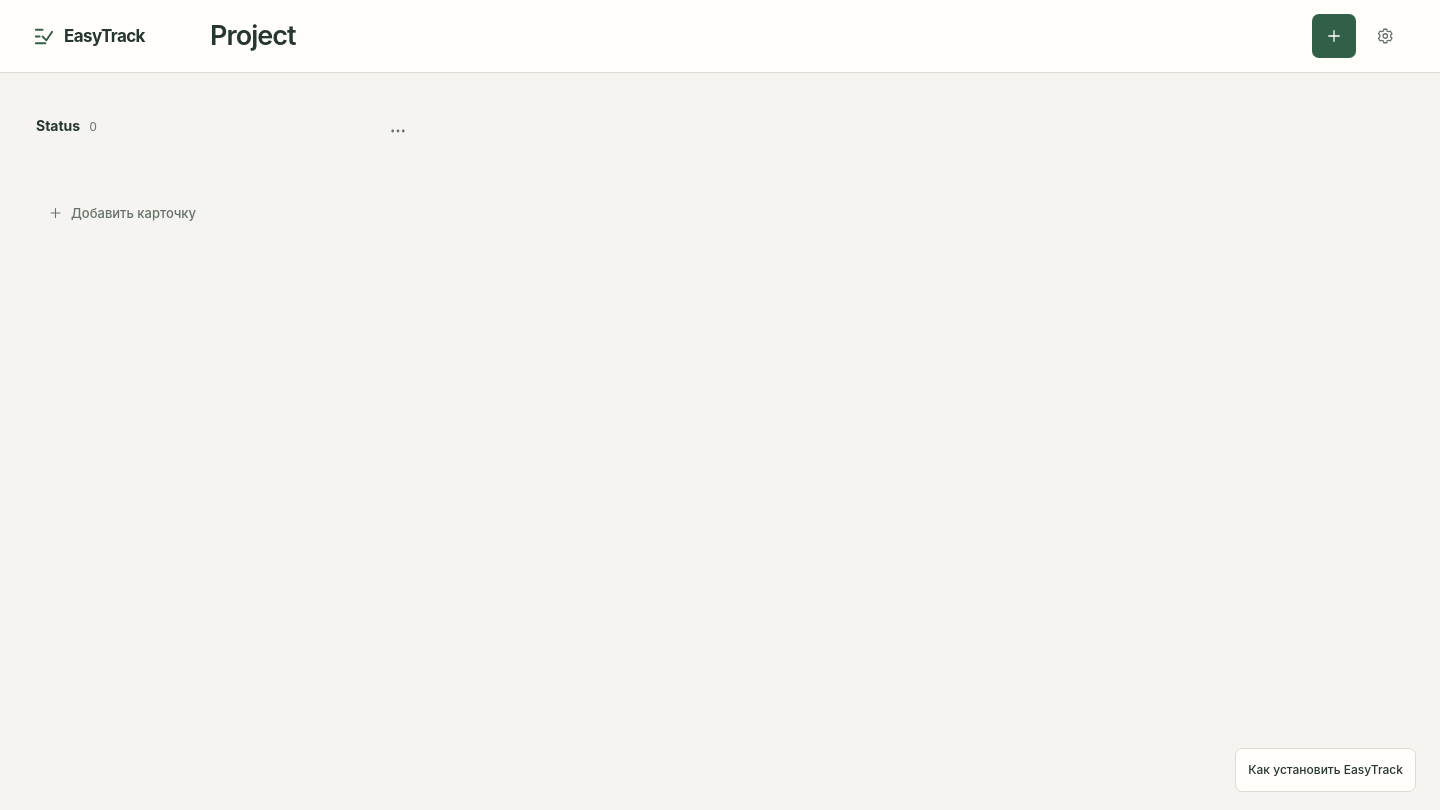
Scenario: translates deletion menus and dialogs and never offers project deletion
expect the heading "Project" is shown: met, box [210,19,296,52]
Click the button named "Настройки": (1386,36) [1364,14,1408,58]
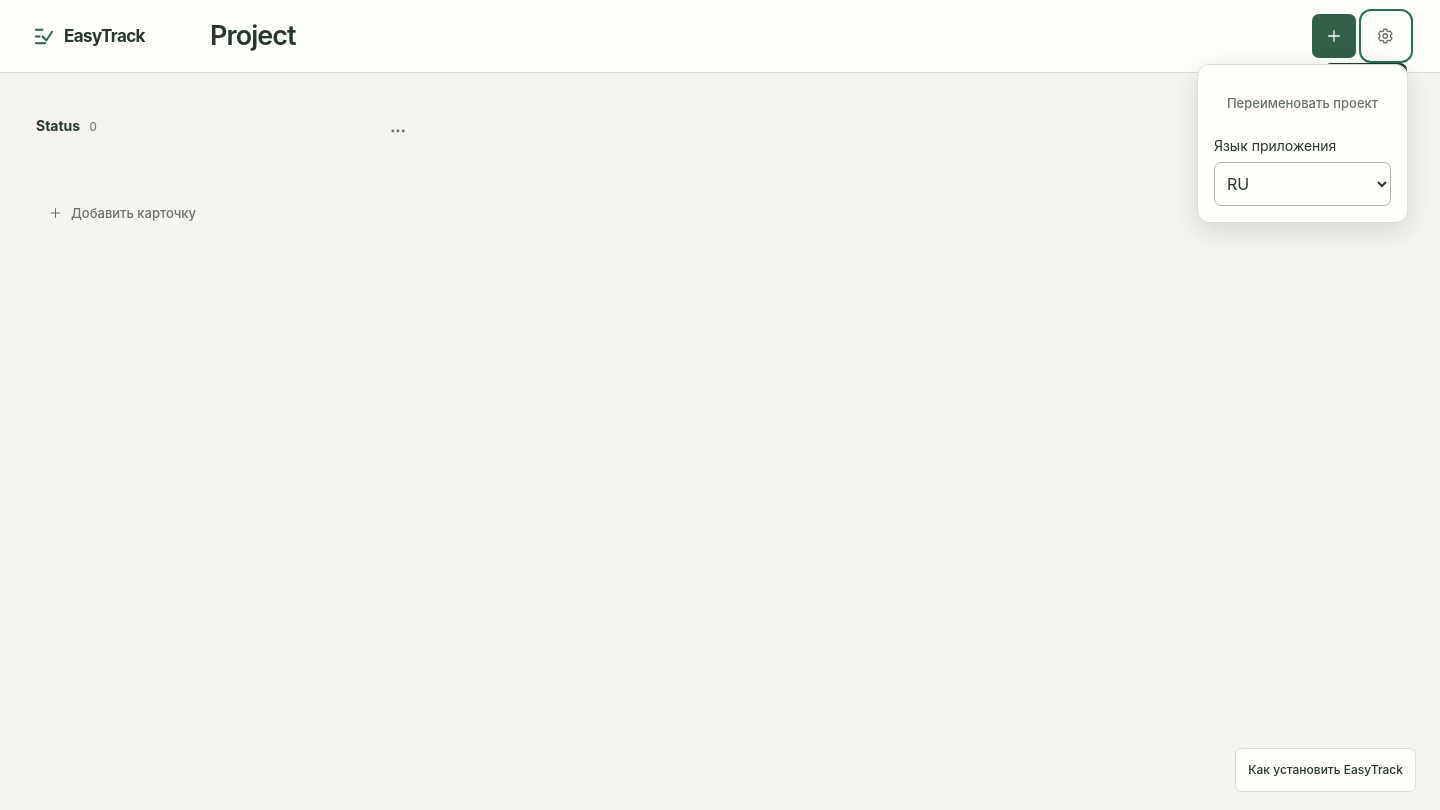
Press Escape
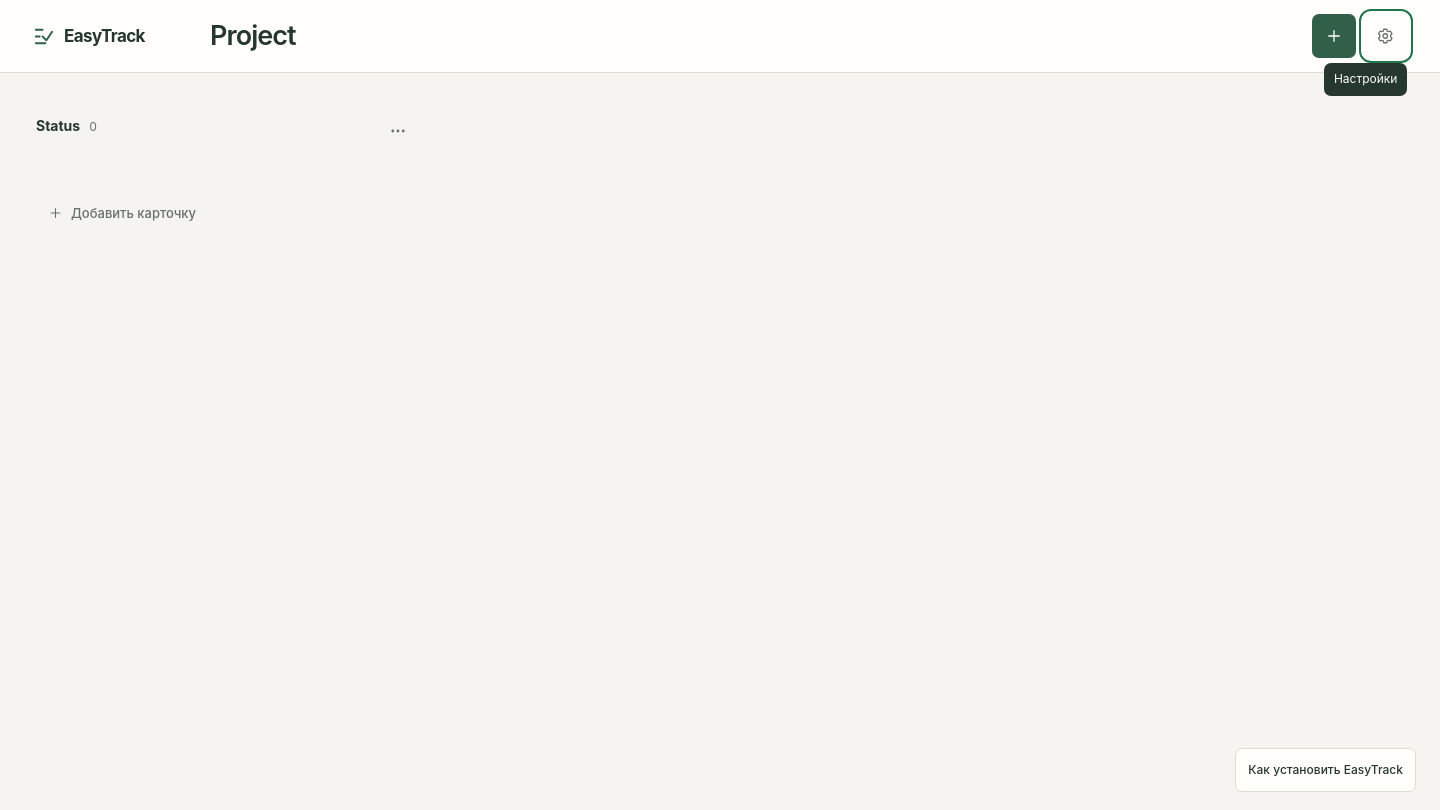
Click the button named "Настройки": (1386,36) [1364,14,1408,58]
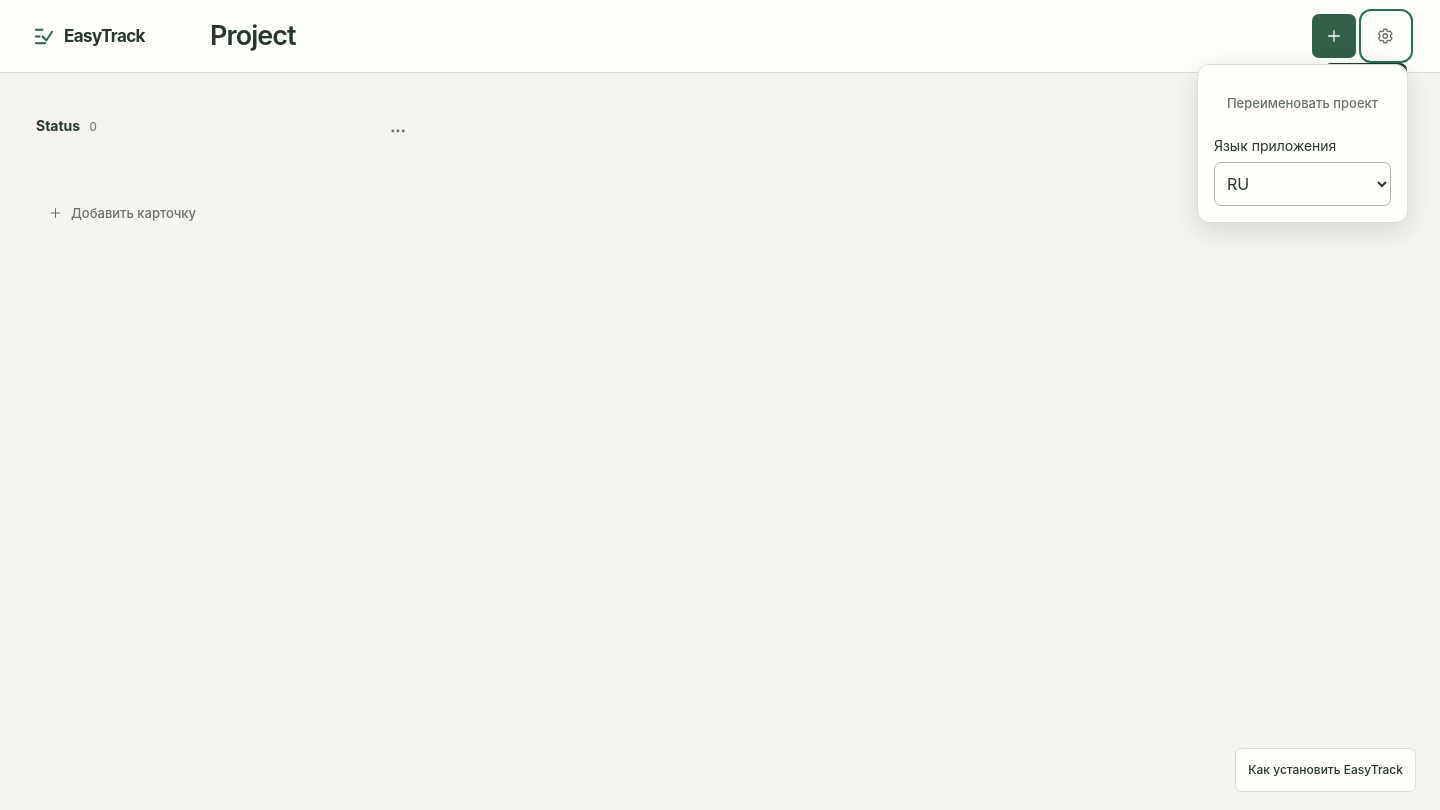
Select "EN" in the dropdown labelled "Язык приложения": (1302,184) [1214,162,1391,206]
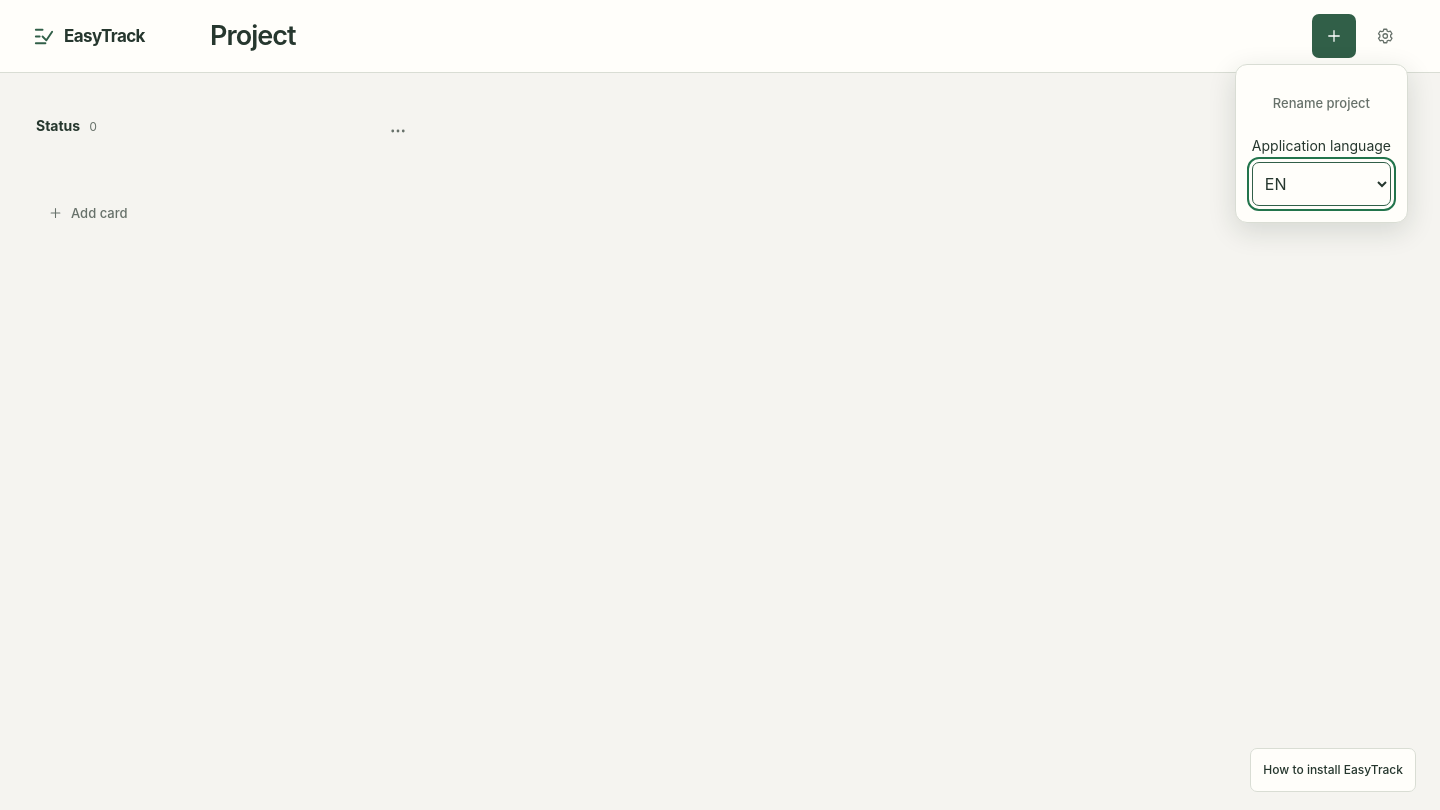
Click the button named "Status actions for Status": (398,131) [376,109,420,153]
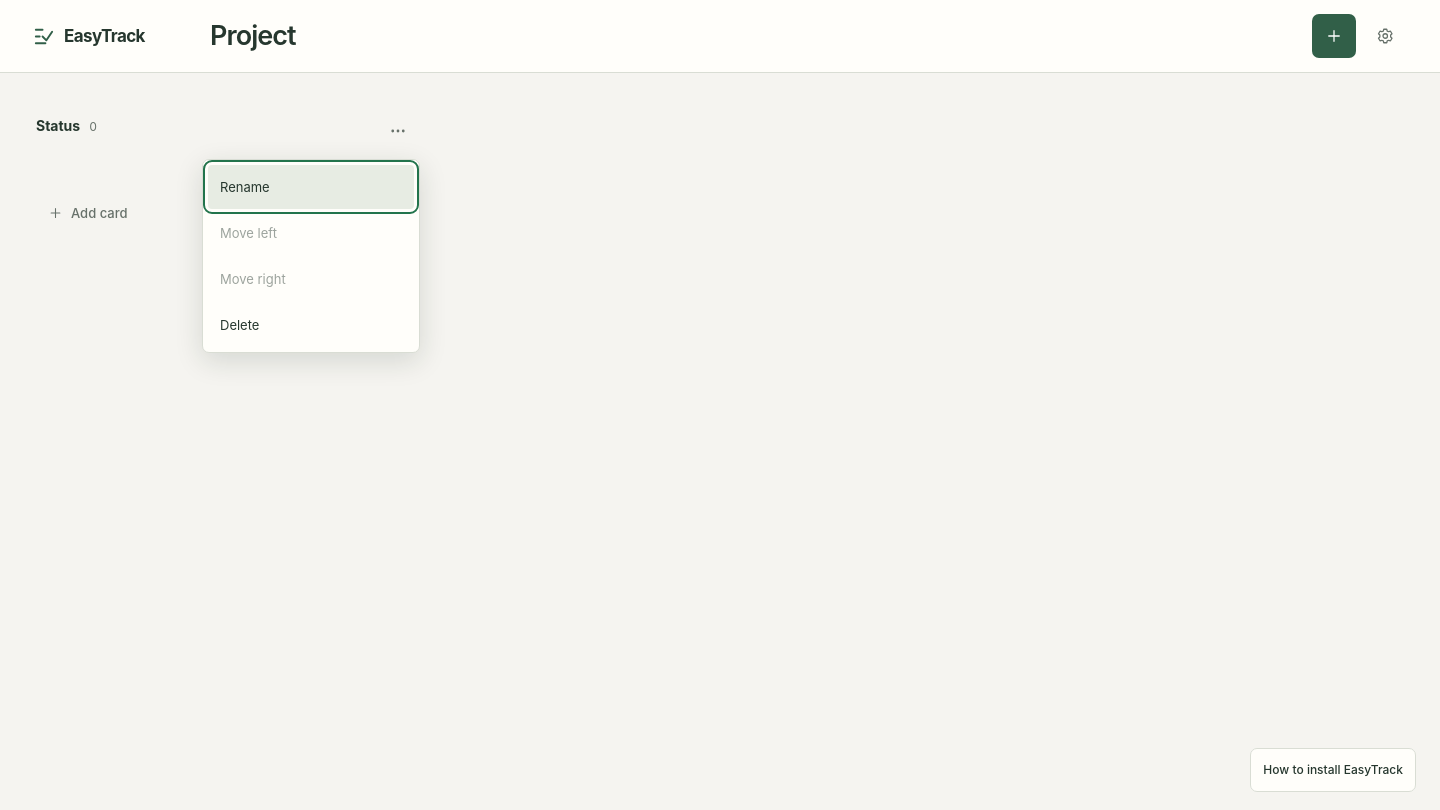
Click the menu item "Delete": (311,325) [208,303,414,347]
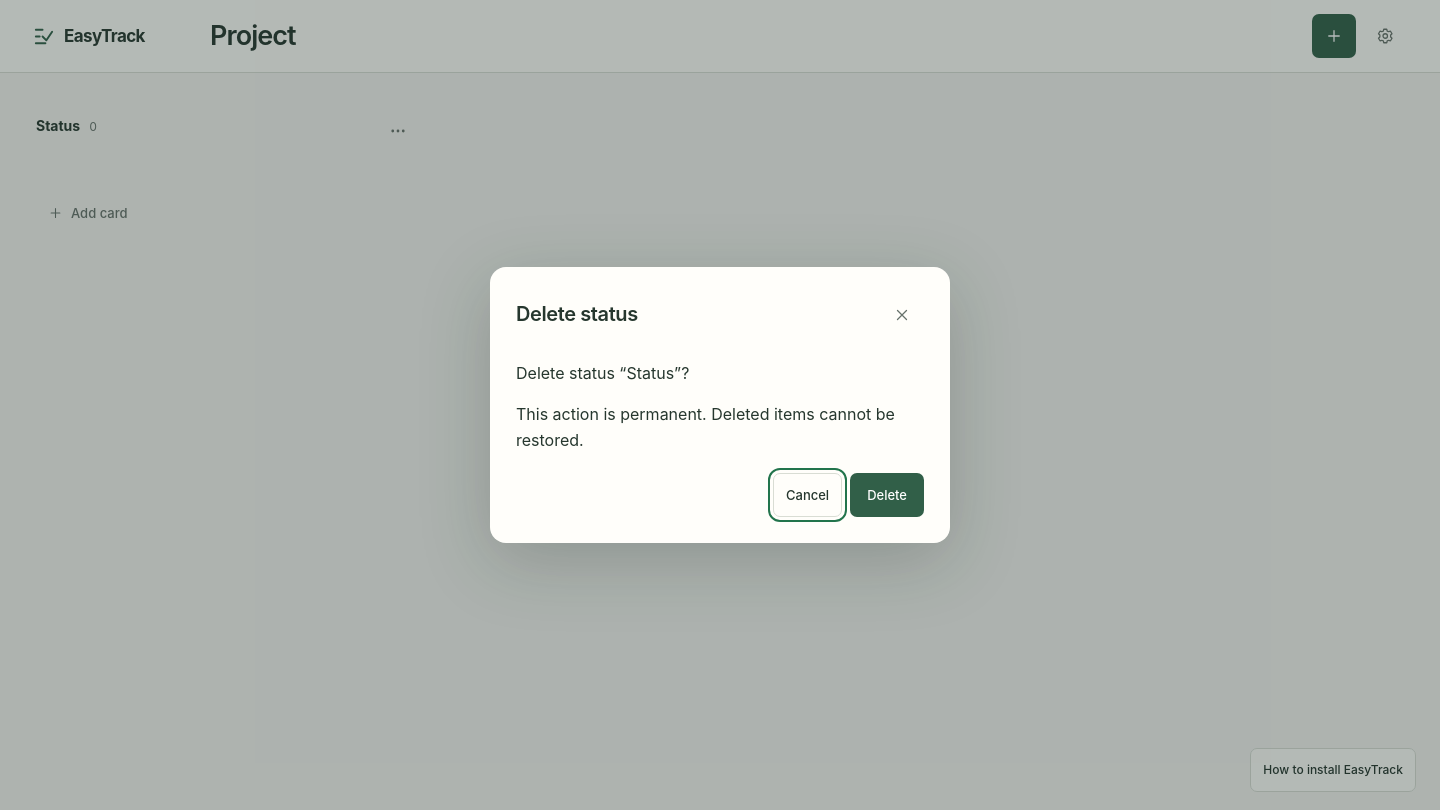
expect the text "Delete status “Status”?" is shown: met, box [516,363,689,383]
expect the text "This action is permanent. Deleted items cannot be restored." is shown: met, box [516,402,924,453]
